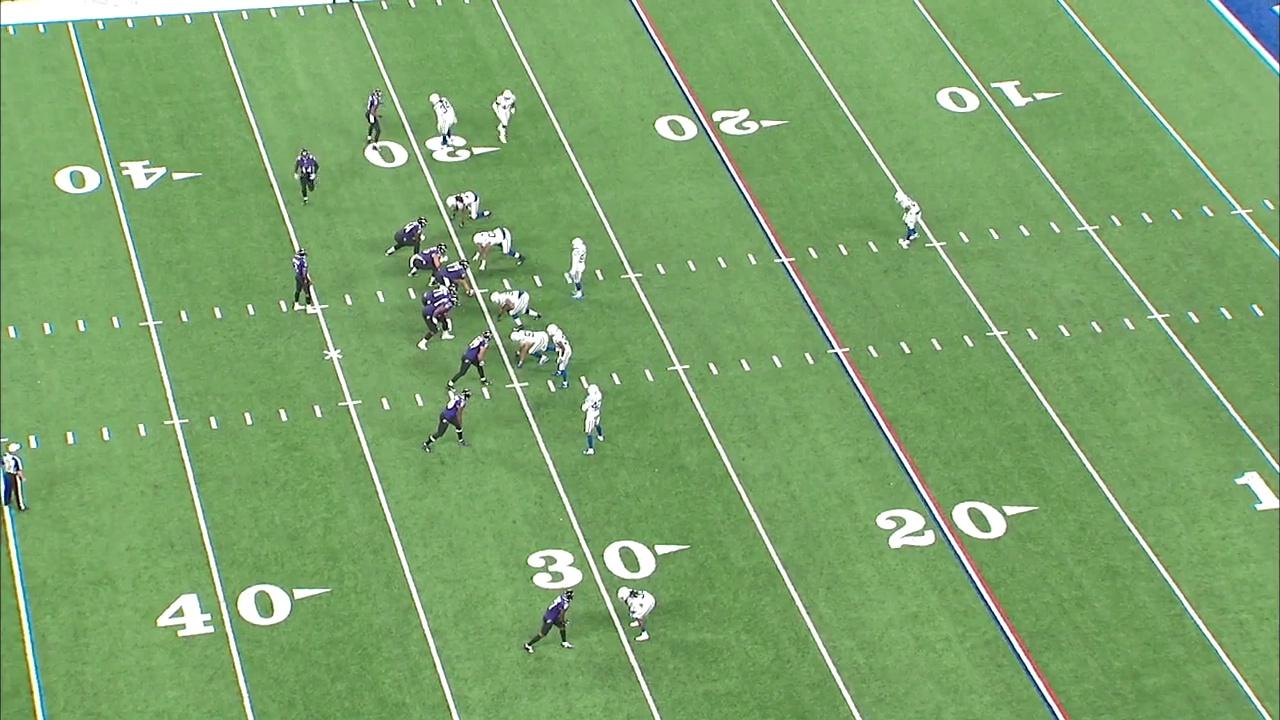player: (521, 588, 577, 656), (420, 386, 475, 454), (447, 328, 494, 392), (471, 225, 526, 271), (416, 295, 460, 352), (617, 585, 658, 645), (291, 246, 323, 317), (488, 289, 543, 330), (383, 215, 430, 258), (579, 383, 606, 456), (508, 328, 555, 369), (407, 242, 449, 287), (546, 322, 574, 389), (446, 189, 492, 229), (429, 92, 458, 152), (894, 190, 924, 248), (433, 259, 476, 299), (293, 148, 322, 207), (491, 88, 518, 145), (565, 236, 588, 300), (365, 88, 387, 152), (420, 283, 460, 308)
ref: (0, 438, 34, 514)
